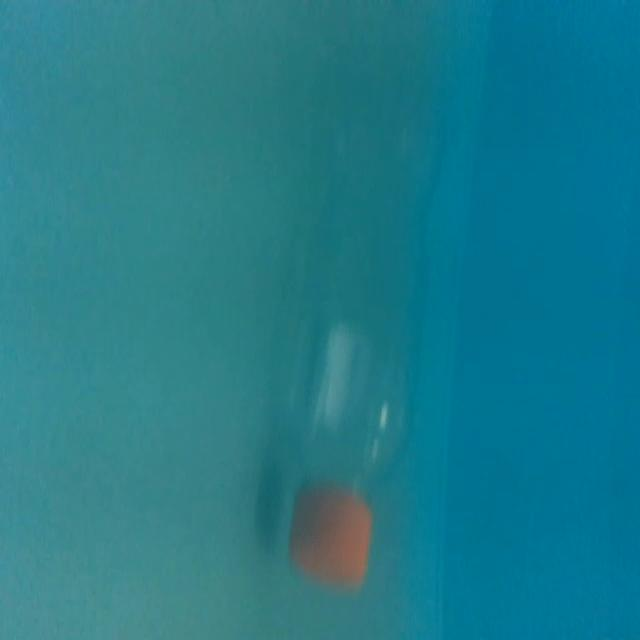plastic bottle: (280, 51, 447, 588)
